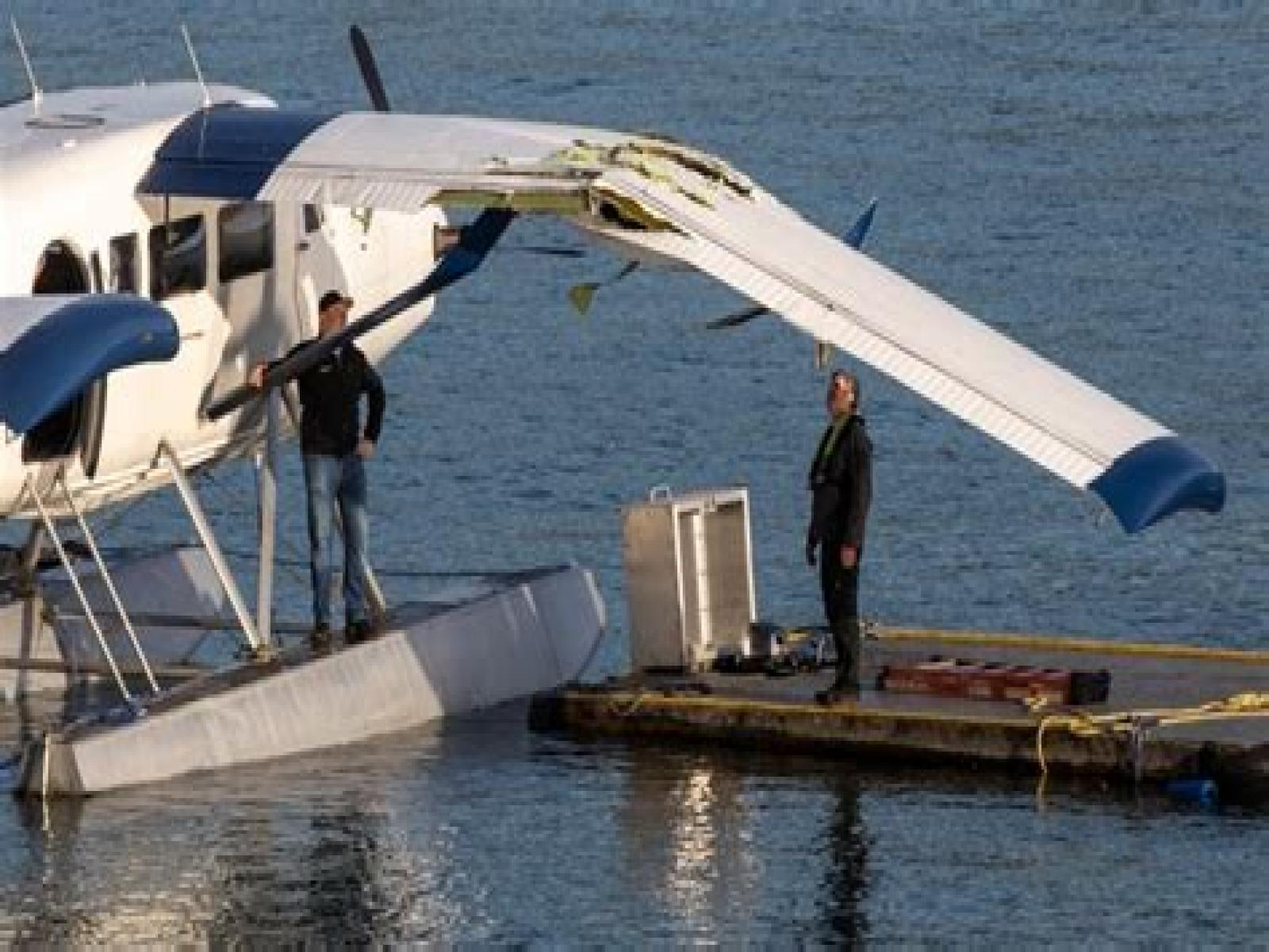Wing_damage: (134, 100, 1223, 530)
